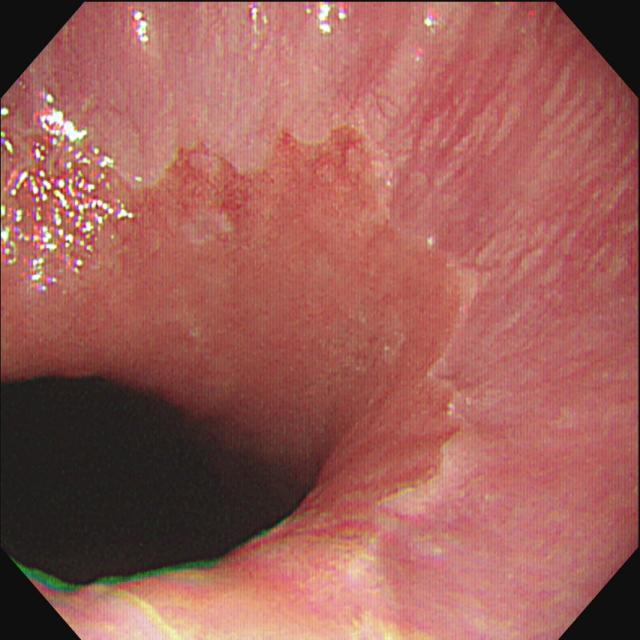D: (272, 120, 365, 186), (177, 136, 247, 222)
E: (2, 353, 317, 605)
I: (2, 90, 489, 600)
U: (2, 80, 149, 297), (316, 3, 352, 39), (129, 9, 154, 51), (246, 3, 271, 31), (421, 6, 445, 34)
